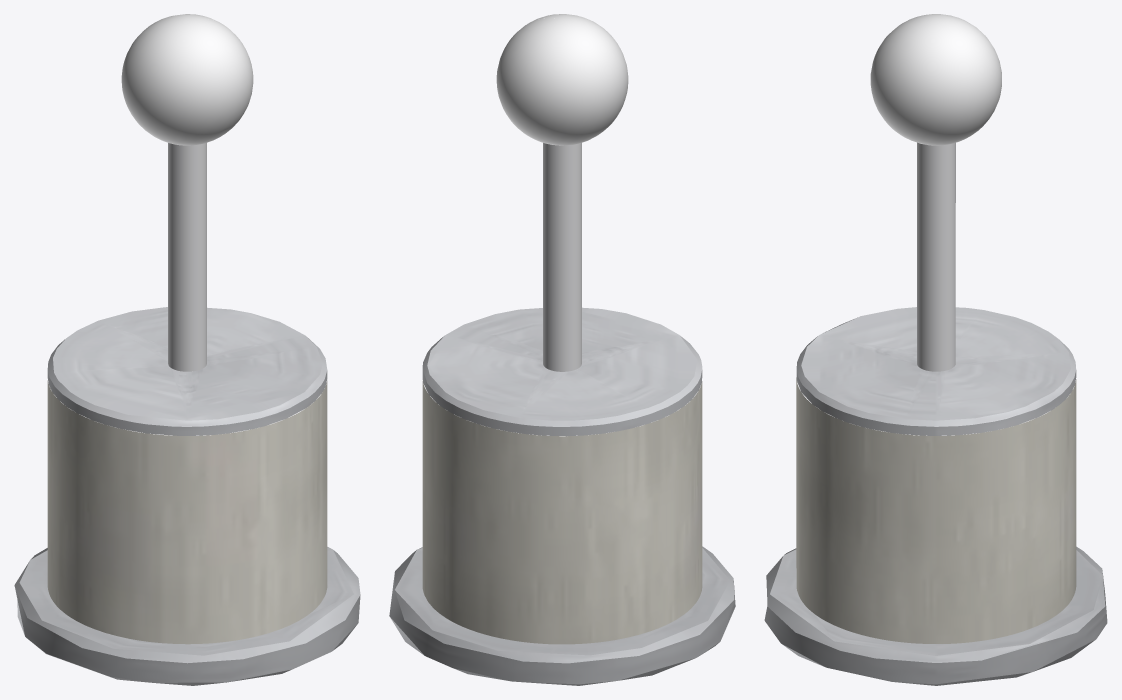
File: ferro-orbis_pawn_white.glb
3 renders of one model, left to right at view 1: azimuth 30°, elevation 25°; view 2: azimuth 150°, elevation 25°; view 3: azimuth 270°, elevation 25°, orthographic.
Visible parts, largest first — view 1: ferro-orbis_pawn_white; view 2: ferro-orbis_pawn_white; view 3: ferro-orbis_pawn_white.
Part boxes in pixels (x1,y1,x2,y2): ferro-orbis_pawn_white: [14, 14, 360, 685]; ferro-orbis_pawn_white: [389, 14, 735, 685]; ferro-orbis_pawn_white: [764, 14, 1107, 685].
Size of the model in its own units: 0.0274 by 0.052 by 0.0272.
Materials: 5 (3 with a texture image).
